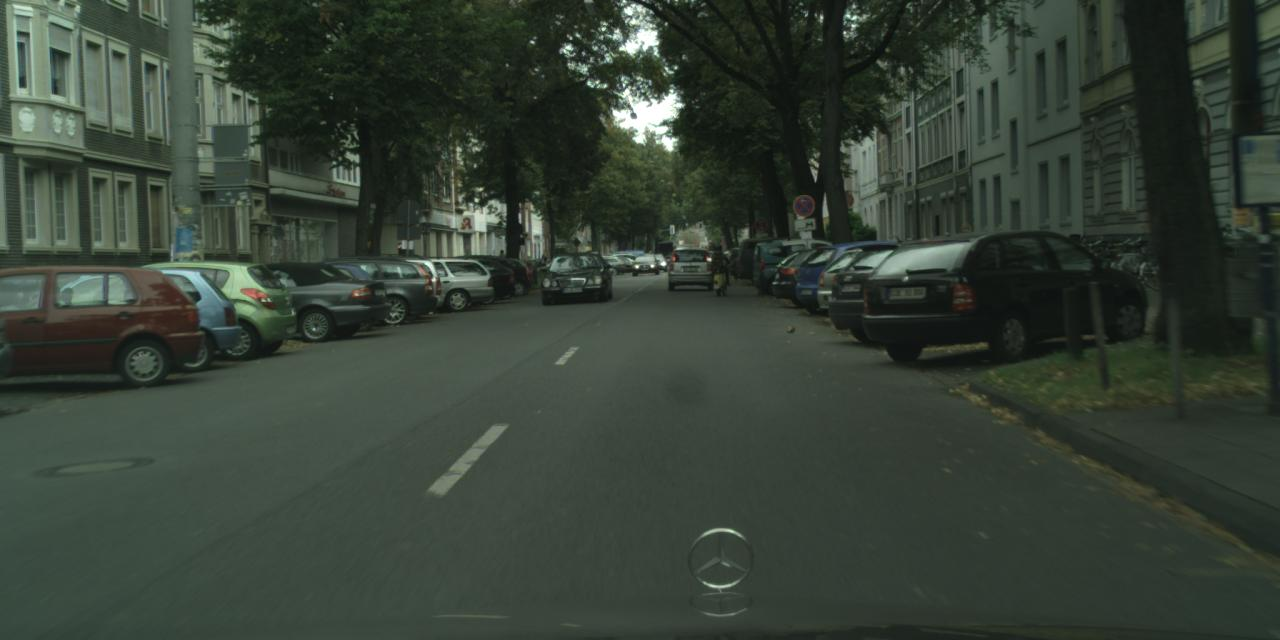ped: (951, 222, 980, 292), (711, 244, 727, 285), (496, 250, 508, 278), (539, 253, 547, 275)
